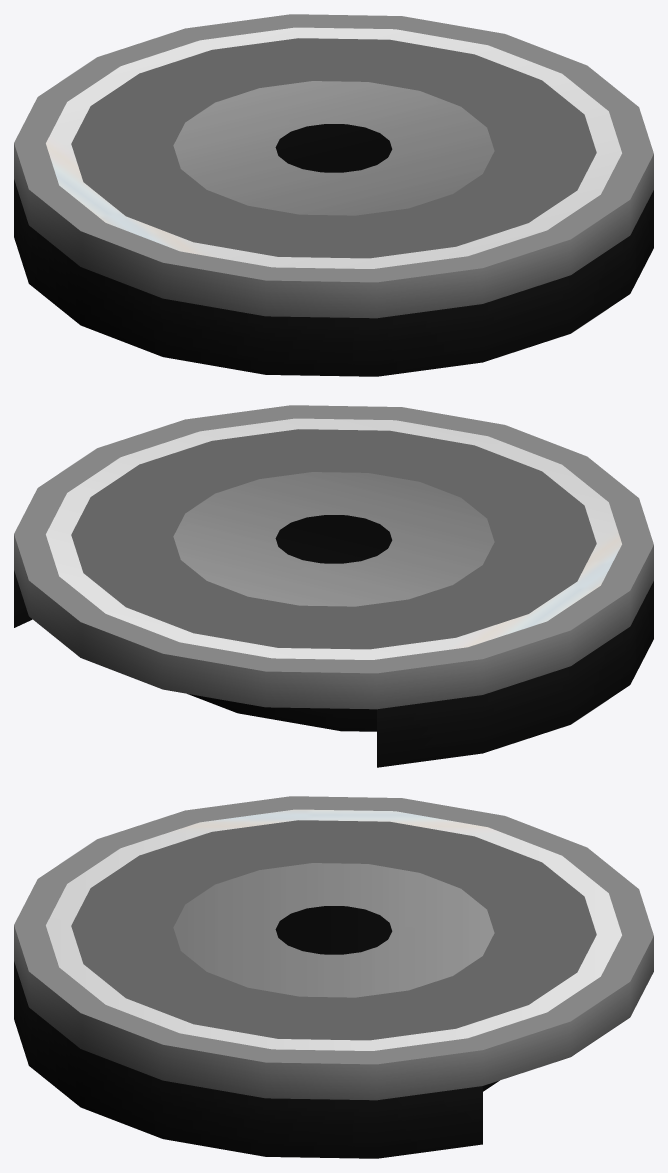
File: Roomba.FBX
3 renders of one model, top to bottom at view 1: azimuth 30°, elevation 25°; view 2: azimuth 150°, elevation 25°; view 3: azimuth 270°, elevation 25°, orthographic.
Visible parts, largest first — view 1: Roomba; view 2: Roomba; view 3: Roomba.
Boxes of the visible parts, x1,y1,x2,y2 form: Roomba: (14,14,653,376); Roomba: (14,405,653,767); Roomba: (14,796,653,1158).
Bounding box in the file's own units: 25.16 × 4.13 × 25.37.
Materials: 1 (1 with a texture image).
